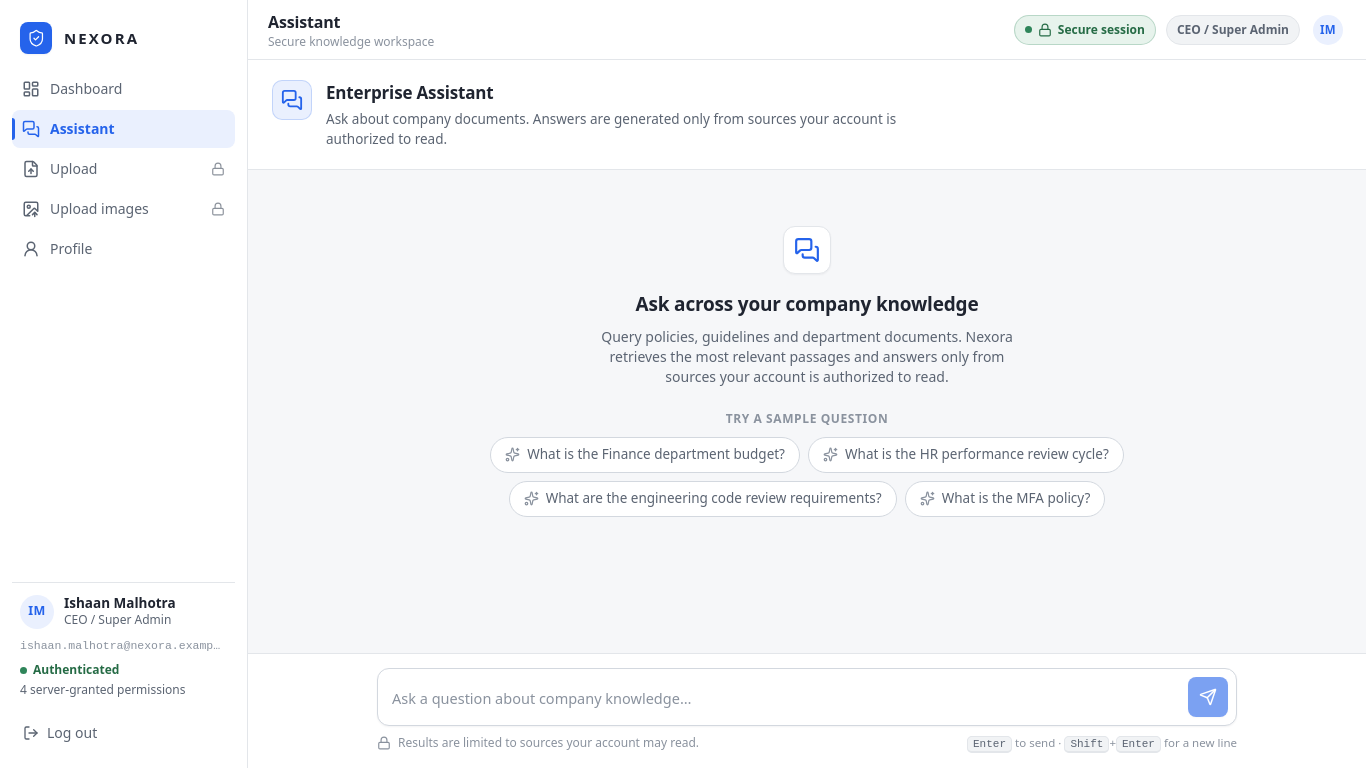
Test: hackathon demo accounts › logs out completely from the visible Log out button
Click the button "Log out" at (124, 733), box x1=12 y1=714 x2=235 y2=752
(page scrolled)
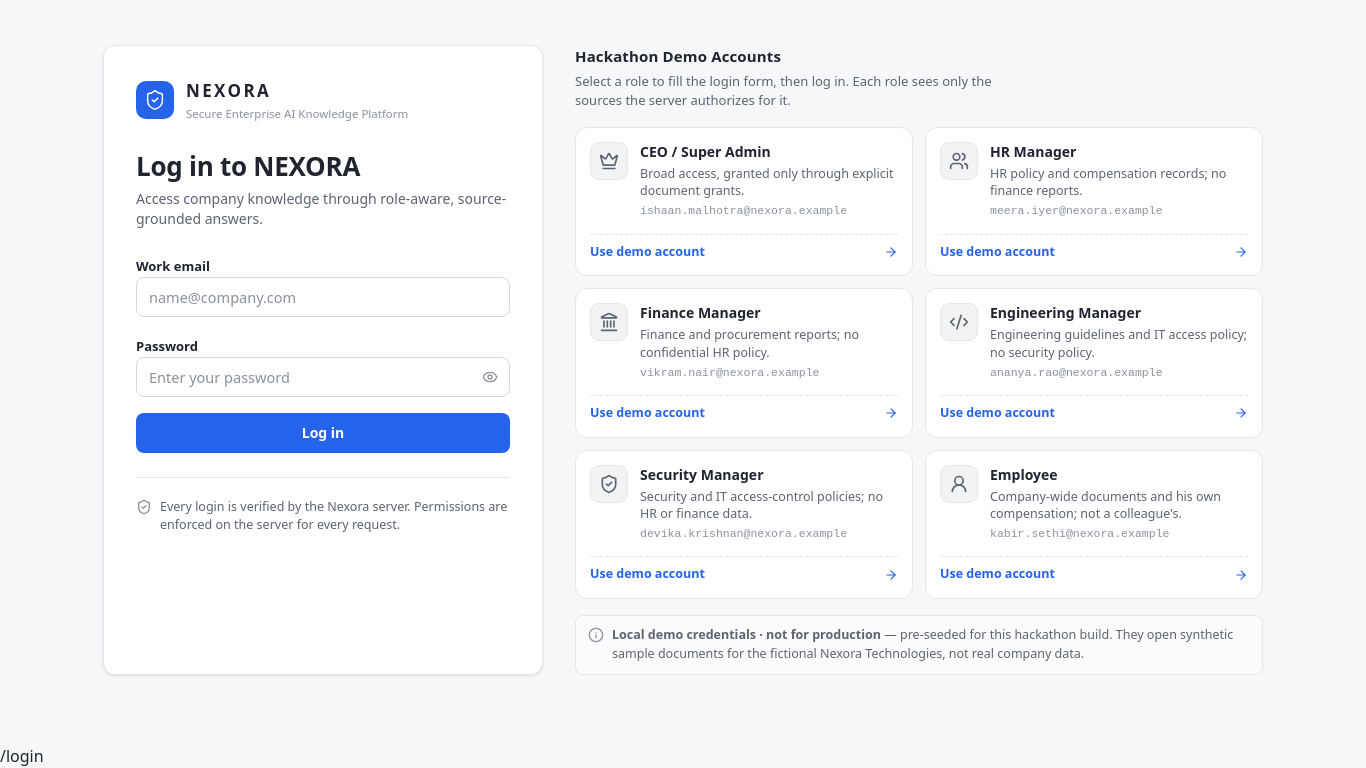
Result: the text with test id "location" reads "/login" at x1=0 y1=745 x2=44 y2=767
Result: the element with test id "session-card" is gone
